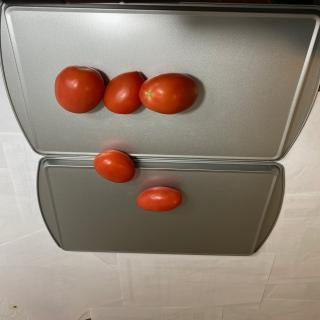Tomato: (54, 65, 105, 114), (139, 72, 198, 114), (103, 71, 145, 114), (93, 149, 136, 183), (136, 186, 182, 212)
